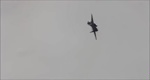maybay_muctieu: (86, 14, 100, 39)
